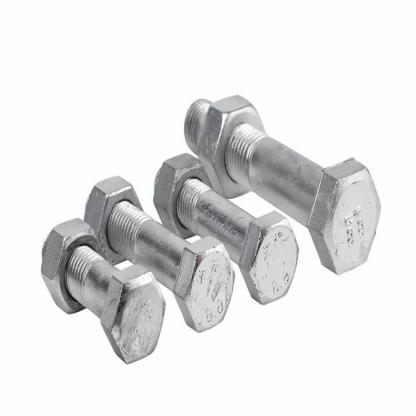FOD: (182, 89, 382, 276), (196, 96, 269, 200)
